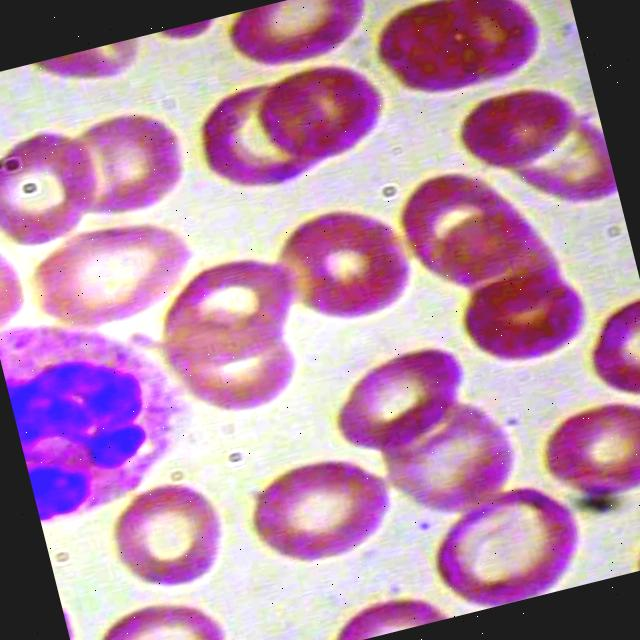RBC: (3, 200, 212, 352), (256, 186, 432, 347), (414, 462, 592, 619), (316, 326, 484, 464), (238, 442, 405, 580), (42, 92, 204, 226), (179, 68, 341, 202), (92, 472, 236, 604), (250, 47, 399, 173), (452, 256, 600, 378), (0, 116, 117, 260), (360, 0, 507, 107), (527, 380, 640, 516), (452, 74, 590, 179), (219, 0, 386, 79), (82, 573, 247, 640), (574, 282, 640, 405)
WBC: (0, 287, 211, 541)
